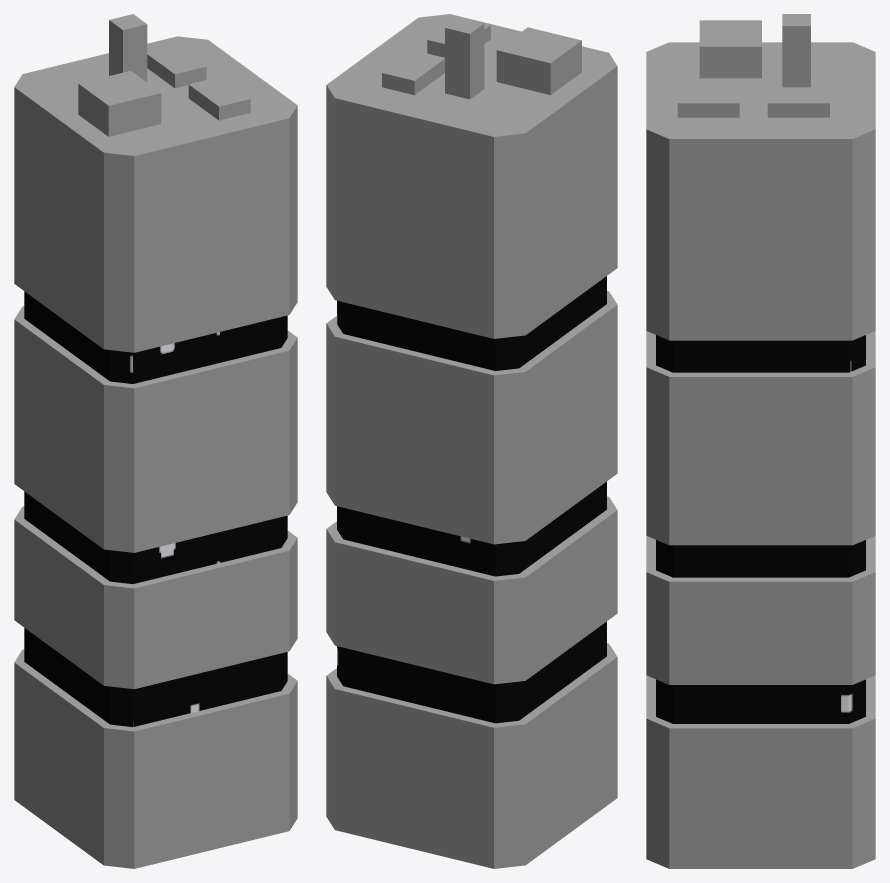
The model's file is Skyscrape04.fbx.
3 renders of one model, left to right at view 1: azimuth 30°, elevation 25°; view 2: azimuth 150°, elevation 25°; view 3: azimuth 270°, elevation 25°, orthographic. The views are drawn at different scales.
Parts seen in each view (by area): view 1: Skyscrape04; view 2: Skyscrape04; view 3: Skyscrape04.
Part boxes in pixels (x1,y1,x2,y2): Skyscrape04: [14, 14, 297, 868]; Skyscrape04: [326, 14, 617, 868]; Skyscrape04: [646, 14, 875, 868].
Size of the model in its own units: 0.473 by 1.81 by 0.473.
